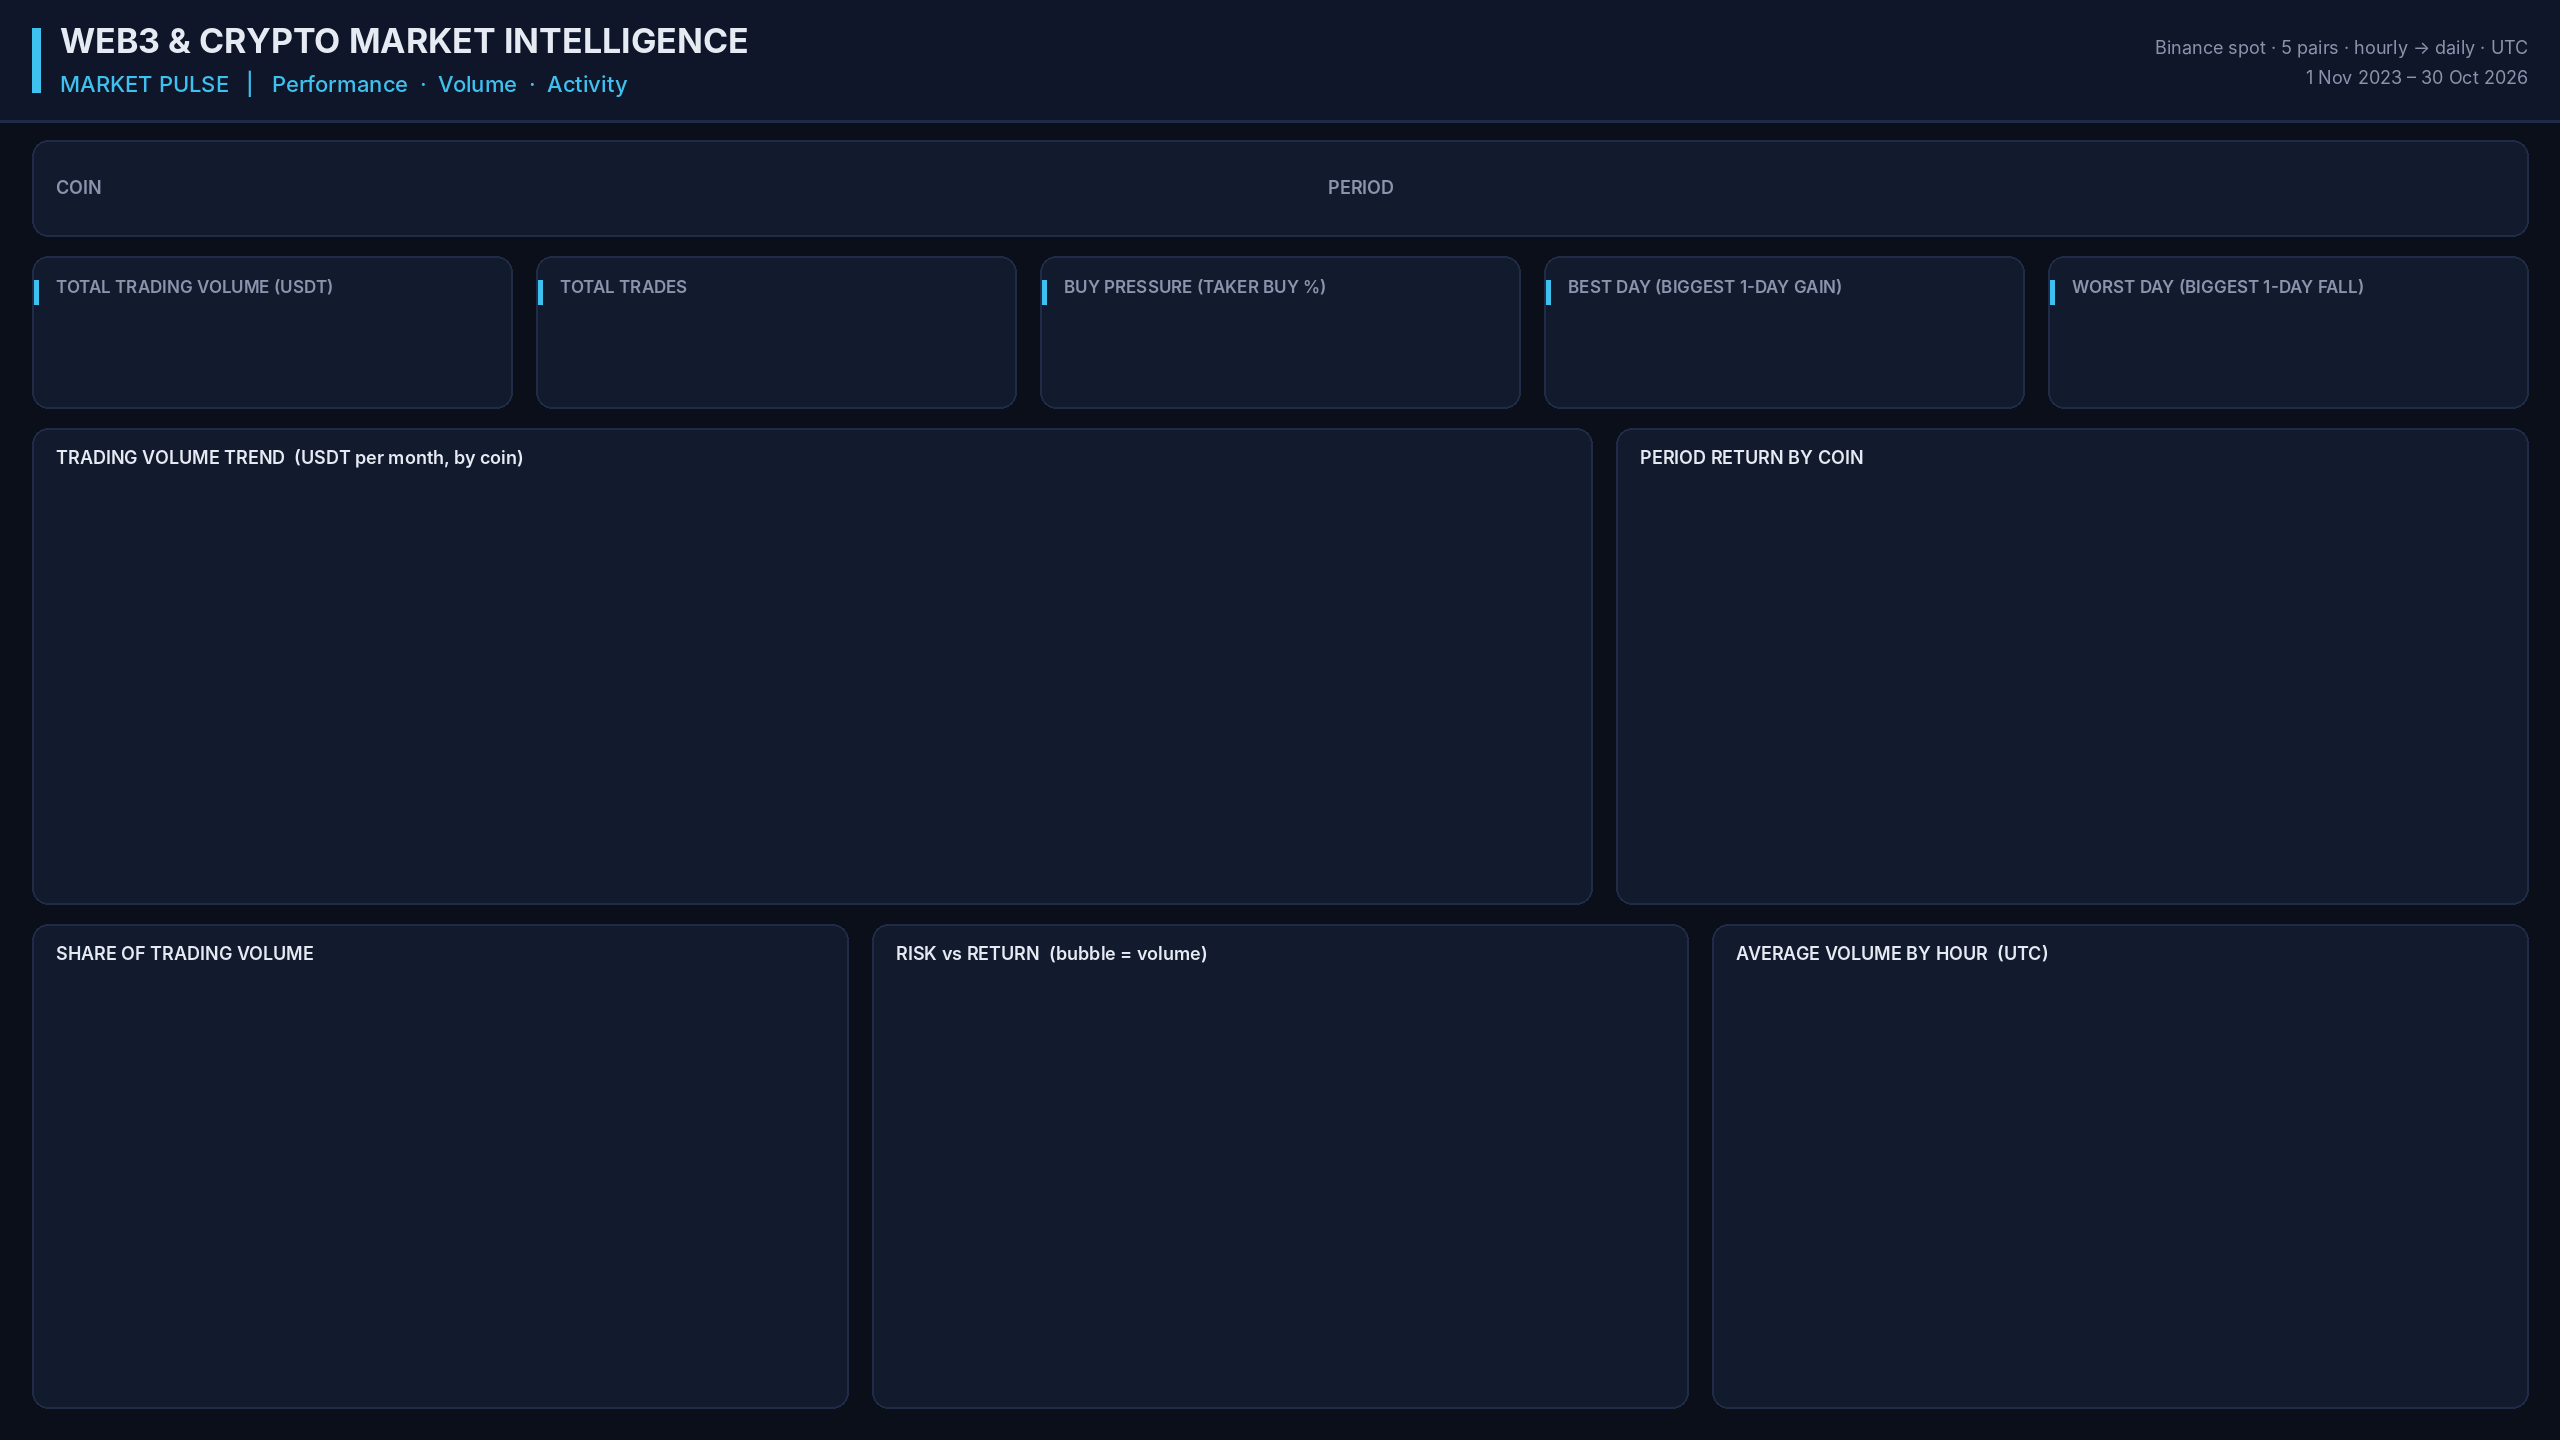

The page's visual inventory and layout, read from the dashboard file:
{"tool":"powerbi","page":{"name":"Market Pulse","canvas":[2560,1440],"ordinal":0},"visuals":[{"type":"slicer","fields":{"Values":["dim_coin.ticker"]},"box":[184.4,164.9,552,40],"z":0},{"type":"slicer","fields":{"Values":["dim_date.Year"]},"box":[1507.4,157.8,526,48],"z":1000},{"type":"cardVisual","fields":{"Data":["_Measures.Total Volume (USDT)"]},"box":[28.4,253.6,484.1,150.7],"z":2000},{"type":"cardVisual","fields":{"Data":["_Measures.Total Trades"]},"box":[537.3,253.6,477,150.7],"z":3000},{"type":"cardVisual","fields":{"Data":["_Measures.Buy Pressure %"]},"box":[1041,253.6,484.1,150.7],"z":4000},{"type":"cardVisual","fields":{"Data":["_Measures.Best Day"]},"box":[1544.6,253.6,477,150.7],"z":5000},{"type":"cardVisual","fields":{"Data":["_Measures.Worst Day"]},"box":[2050,248.3,484.1,163.2],"z":6000},{"type":"lineChart","fields":{"Category":["dim_date.Year-Month"],"Series":["dim_coin.ticker"],"Y":["_Measures.Total Volume (USDT)"]},"box":[27.6,467.5,1562.9,427.8],"z":7000},{"type":"clusteredBarChart","fields":{"Category":["dim_coin.ticker"],"Series":["dim_coin.ticker"],"Y":["_Measures.Period Return %"]},"box":[1619.1,468.2,915.1,427.4],"z":8000},{"type":"donutChart","fields":{"Category":["dim_coin.ticker"],"Y":["_Measures.Total Volume (USDT)"]},"box":[28.4,973.6,824.6,427.4],"z":9000},{"type":"scatterChart","fields":{"Category":["dim_coin.ticker"],"Series":["dim_coin.ticker"],"Size":["_Measures.Total Volume (USDT)"],"X":["_Measures.Volatility (Yearly)"],"Y":["_Measures.Period Return %"]},"box":[872.5,973.6,821.1,427.4],"z":10000},{"type":"clusteredColumnChart","fields":{"Category":["fact_hourly.hour_utc"],"Y":["Avg(fact_hourly.quote_volume)"]},"box":[1716.7,973.6,817.5,427.4],"z":11000},{"type":"actionButton","box":[924,28,300,68],"z":12000},{"type":"pageNavigator","box":[1380,28,660,68],"z":13000}]}

Visuals, with their boxes in screenshot pixels (x1, y1, x2, y2), scaled from the page's 2560x1440 canvas onto the 2560x1440 screenshot:
slicer - dim_coin.ticker: rect(184, 165, 736, 205)
slicer - dim_date.Year: rect(1507, 158, 2033, 206)
cardVisual - _Measures.Total Volume (USDT): rect(28, 254, 512, 404)
cardVisual - _Measures.Total Trades: rect(537, 254, 1014, 404)
cardVisual - _Measures.Buy Pressure %: rect(1041, 254, 1525, 404)
cardVisual - _Measures.Best Day: rect(1545, 254, 2022, 404)
cardVisual - _Measures.Worst Day: rect(2050, 248, 2534, 412)
lineChart - dim_date.Year-Month x dim_coin.ticker: rect(28, 468, 1590, 895)
clusteredBarChart - dim_coin.ticker x dim_coin.ticker: rect(1619, 468, 2534, 896)
donutChart - dim_coin.ticker x _Measures.Total Volume (USDT): rect(28, 974, 853, 1401)
scatterChart - dim_coin.ticker x dim_coin.ticker: rect(872, 974, 1694, 1401)
clusteredColumnChart - fact_hourly.hour_utc x Avg(fact_hourly.quote_volume): rect(1717, 974, 2534, 1401)
actionButton: rect(924, 28, 1224, 96)
pageNavigator: rect(1380, 28, 2040, 96)
